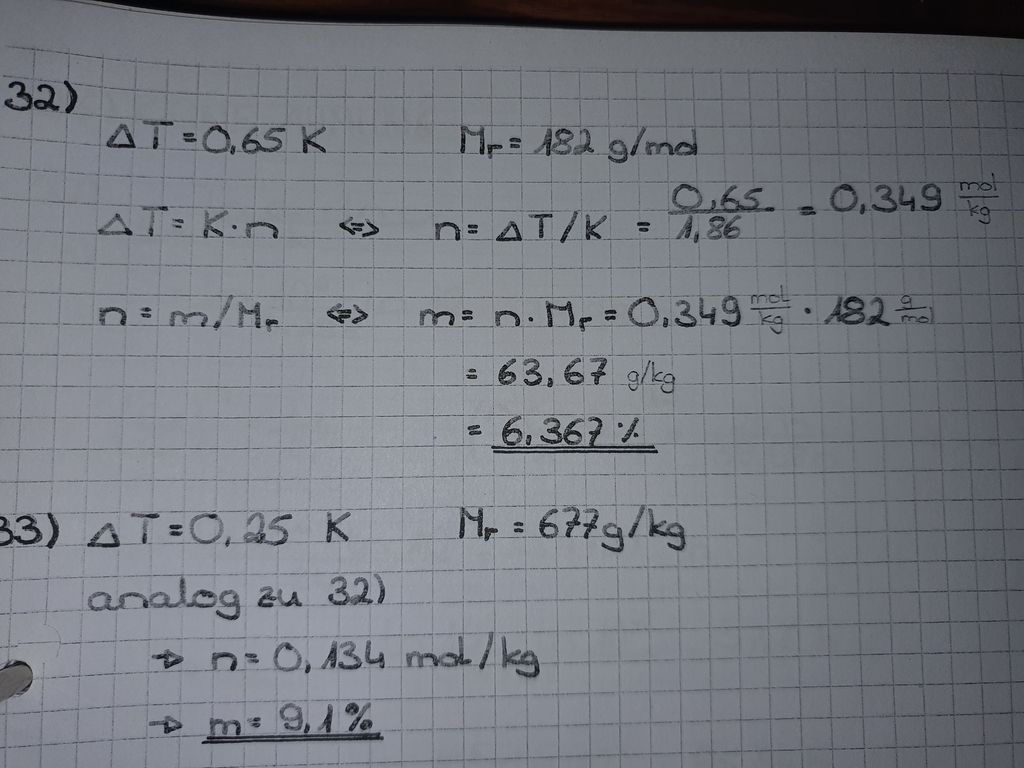equals: (161, 209, 192, 237), (242, 707, 272, 734), (173, 123, 201, 151), (504, 514, 532, 542), (790, 198, 819, 224), (134, 300, 159, 329), (462, 417, 486, 444), (461, 359, 486, 384), (462, 213, 488, 236), (456, 302, 483, 323), (242, 644, 263, 669), (163, 523, 189, 543), (631, 214, 654, 236), (601, 300, 624, 320), (507, 130, 525, 152)
equation: (418, 174, 1003, 245), (407, 276, 949, 333), (198, 623, 555, 679), (74, 499, 360, 552), (447, 493, 693, 554), (92, 104, 340, 164), (445, 113, 715, 167), (458, 342, 688, 399), (454, 405, 675, 462), (89, 279, 285, 341), (88, 188, 293, 246), (196, 692, 402, 749)
fraction: (268, 632, 544, 674), (538, 497, 689, 553), (532, 119, 706, 163), (659, 182, 773, 242), (488, 196, 615, 246), (166, 289, 279, 340)
term: (625, 289, 942, 331), (191, 506, 353, 548), (206, 112, 333, 161), (496, 412, 648, 452), (831, 175, 947, 225), (492, 349, 619, 390), (275, 696, 379, 741), (490, 291, 596, 333), (198, 197, 283, 246), (81, 508, 166, 552), (94, 199, 160, 240), (105, 115, 168, 155), (451, 121, 506, 159), (414, 290, 457, 327), (459, 502, 493, 545), (427, 205, 466, 240), (94, 294, 126, 334), (206, 707, 243, 740), (208, 636, 236, 676)
